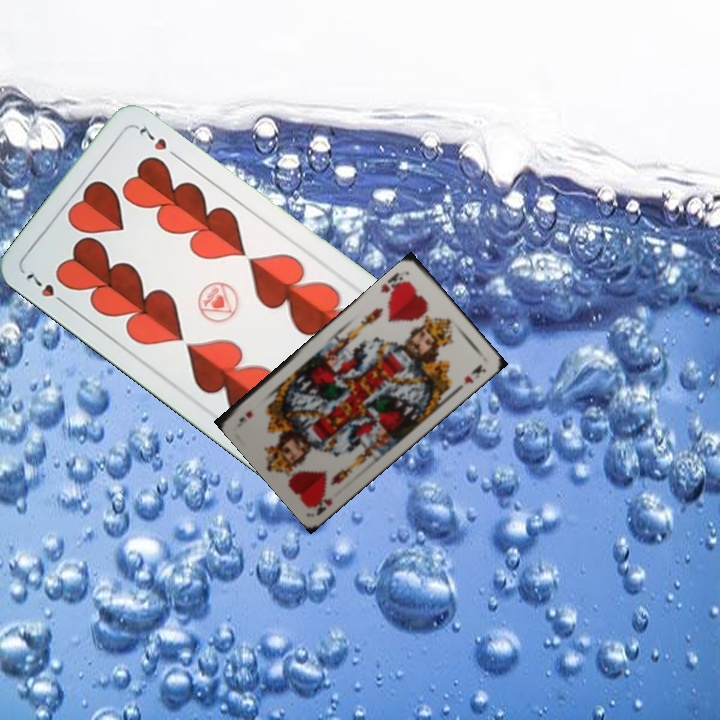H7: (21, 269, 71, 309)
HK: (377, 268, 411, 302), (308, 491, 335, 517)
